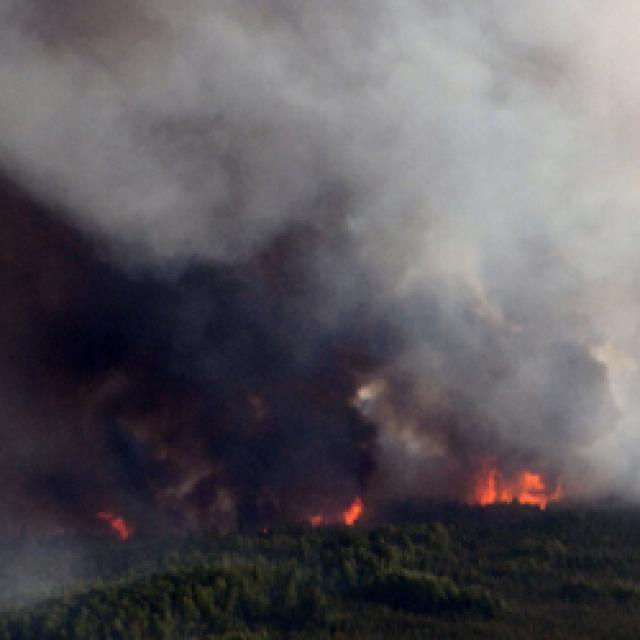Fire: (452, 438, 594, 516), (14, 499, 134, 564), (269, 476, 372, 524)
Smoke: (0, 0, 640, 420)
